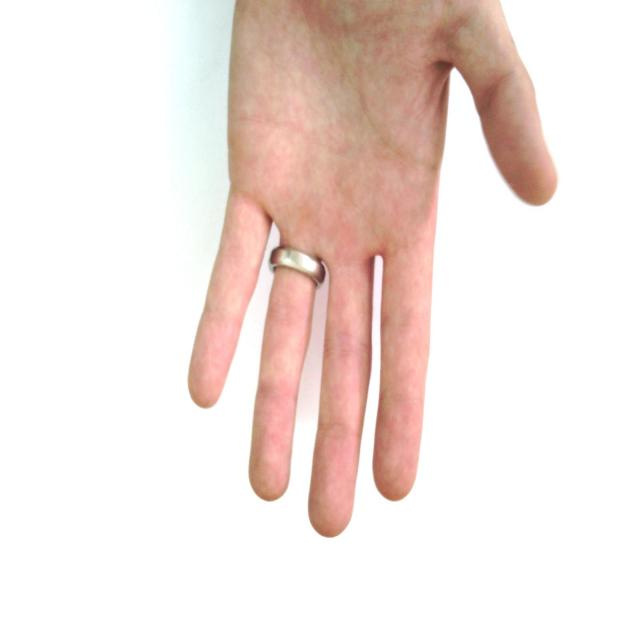others: (164, 0, 583, 542)
